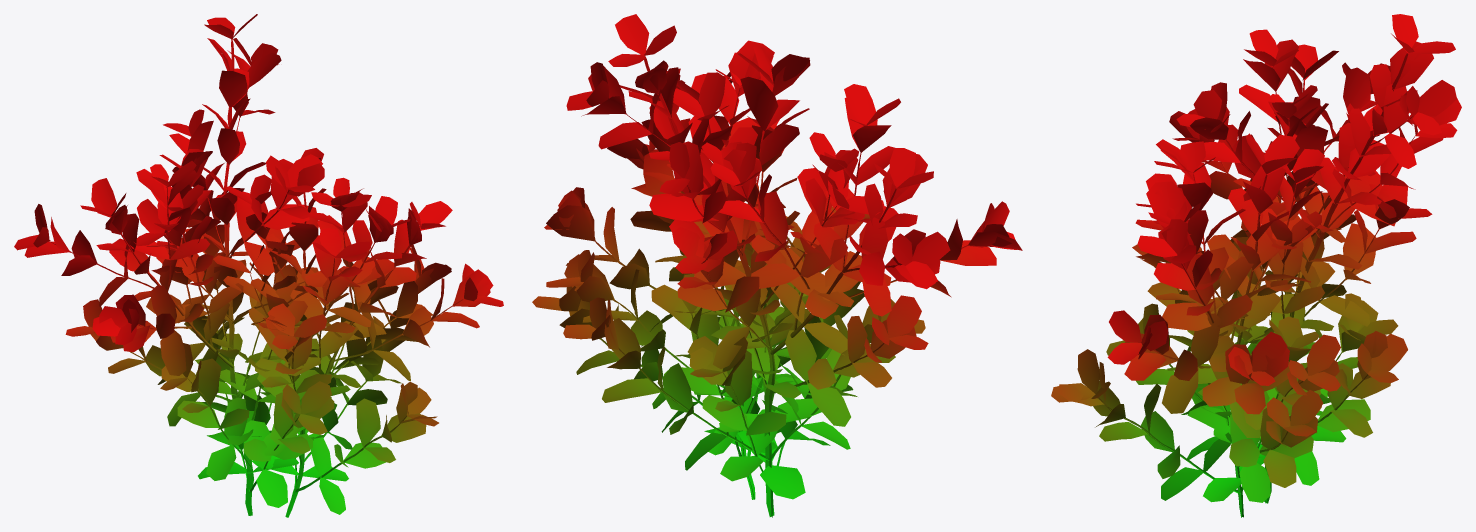
Rendered from Var10_LOD2.fbx.
The picture shows the model from 3 angles, left to right: view 1: azimuth 30°, elevation 25°; view 2: azimuth 150°, elevation 25°; view 3: azimuth 270°, elevation 25°; orthographic projection. The views are drawn at different scales.
Visible parts, largest first — view 1: _hxcd_Var10_LOD2; view 2: _hxcd_Var10_LOD2; view 3: _hxcd_Var10_LOD2.
Boxes of the visible parts, <box> form: _hxcd_Var10_LOD2: <box>14,14,503,517</box>; _hxcd_Var10_LOD2: <box>532,14,1022,517</box>; _hxcd_Var10_LOD2: <box>1051,14,1461,517</box>.
Bounding box in the file's own units: 15.67 × 17.77 × 13.15.
